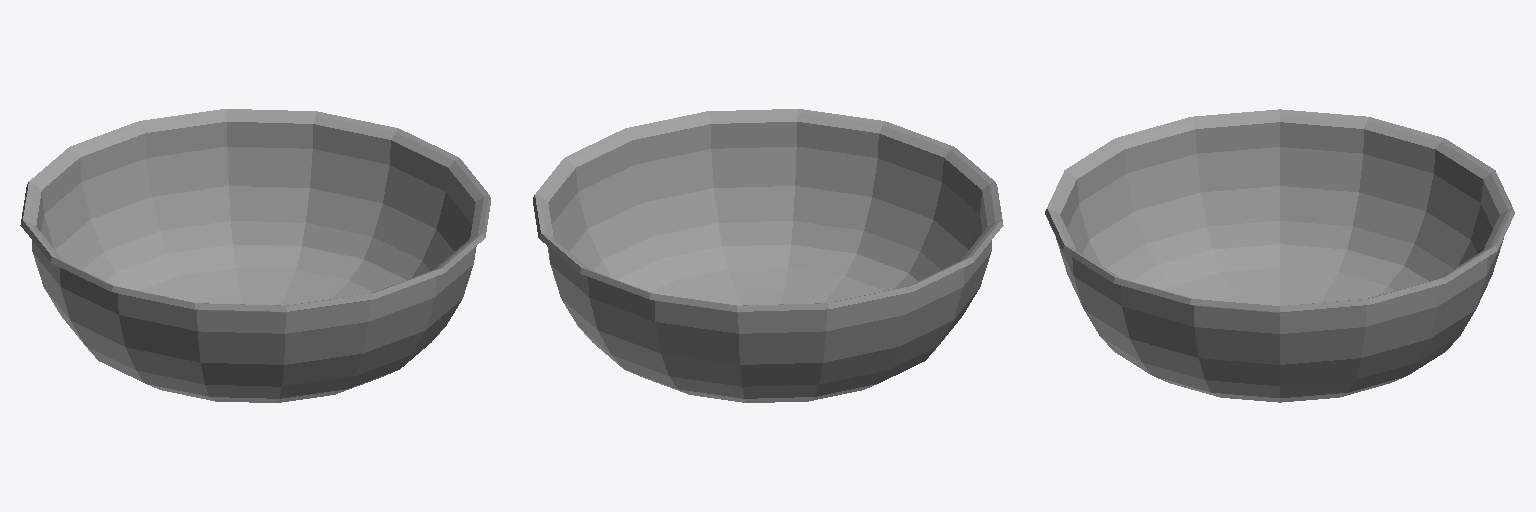
robot.urdf — bowl:
<?xml version="1.0"?>

<robot name="bowl">
  <link name="bowl">
    <gravity>false</gravity>
    <inertial>
       <mass value="0.02"/>
       <inertia
        ixx="0.0007"
        ixy="0"
        ixz="0"
        iyy="0.0007"
        iyz="0"
        izz="0.007" />
    </inertial>
    <collision>
        <geometry><box size="0.0001 0.0001 0.0001" /></geometry>
          <surface>
            <contact>
              <collide_without_contact>true</collide_without_contact>
            </contact>
          </surface>
    </collision>
    <visual>
      <geometry>
        <mesh filename="package://milkshake_demo/models/bowl/meshes/bowl.dae"/>
      </geometry>
    </visual>
  </link>
</robot>

--- What the picture shows (computed from the rendered views, not written in the file) ---
The picture shows the robot from 3 angles, left to right: view 1: azimuth 30°, elevation 25°; view 2: azimuth 150°, elevation 25°; view 3: azimuth 270°, elevation 25°; orthographic projection.
Model bowl with 1 links and 0 joints (none), rooted at bowl, posed all joints at 0.
Visible links, largest first — view 1: bowl; view 2: bowl; view 3: bowl.
Link boxes in pixels (left/top/right/bottom): bowl: left=20, top=109, right=490, bottom=402; bowl: left=533, top=109, right=1003, bottom=402; bowl: left=1045, top=109, right=1514, bottom=402.
Size in the robot's own frame: 0.2354 by 0.2354 by 0.0859 metres.
1 mesh visuals loaded from 1 distinct referenced files (1 Collada DAE).